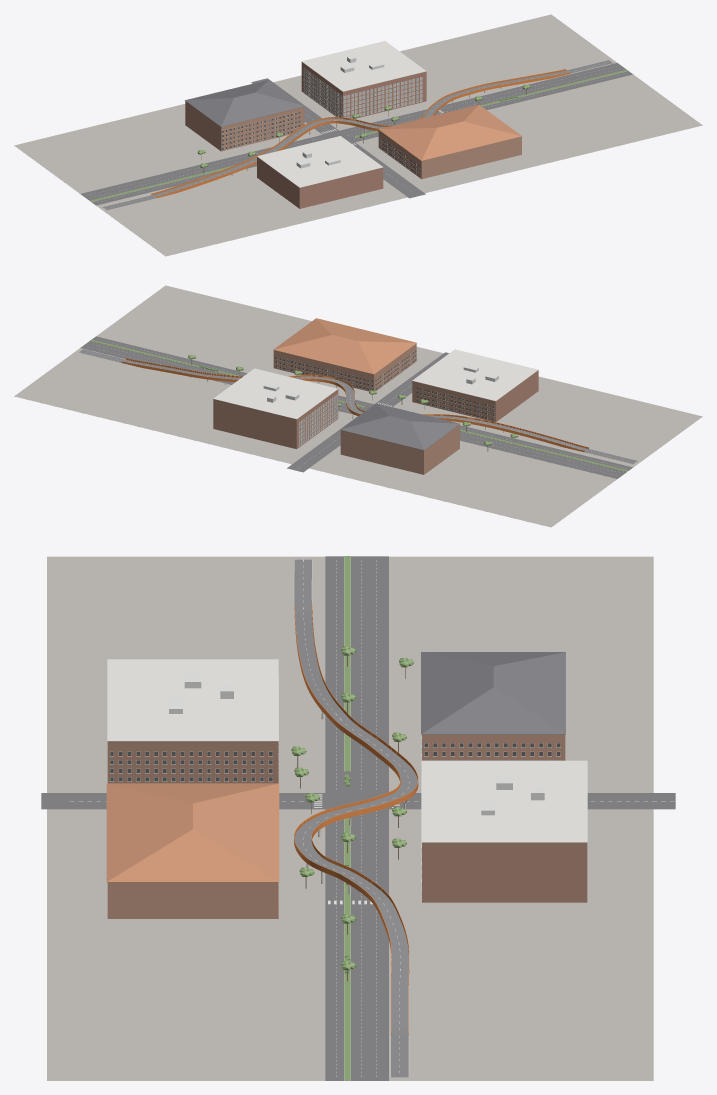
File: clay-swooping-cycle-flyover-clay-v002.glb
3 views of the same model, one above another, from view 1: azimuth 30°, elevation 25°; view 2: azimuth 150°, elevation 25°; view 3: azimuth 270°, elevation 25° (orthographic). The views are drawn at different scales.
Visible parts, largest first — view 1: CLAY_PAVING, CLAY_TRIM, CLAY_ASPHALT, CLAY_BRICK, CLAY_BRICK2, CLAY_TILE, CLAY_ROOF, CLAY_ORANGE, CLAY_DECK, CLAY_GLASS, CLAY_PLANTING, CLAY_DARK (+2 smaller); view 2: CLAY_PAVING, CLAY_TRIM, CLAY_BRICK, CLAY_ASPHALT, CLAY_BRICK2, CLAY_TILE, CLAY_ROOF, CLAY_ORANGE, CLAY_DECK, CLAY_PLANTING, CLAY_DARK, CLAY_PALE (+2 smaller); view 3: CLAY_PAVING, CLAY_ASPHALT, CLAY_TRIM, CLAY_TILE, CLAY_BRICK, CLAY_ROOF, CLAY_BRICK2, CLAY_DECK, CLAY_PLANTING, CLAY_ORANGE, CLAY_DARK, CLAY_PALE (+2 smaller).
Boxes of the visible parts, <box> form: CLAY_PAVING: <box>14,14,702,256</box>; CLAY_TRIM: <box>222,41,426,187</box>; CLAY_ASPHALT: <box>80,63,632,205</box>; CLAY_BRICK: <box>257,62,426,208</box>; CLAY_BRICK2: <box>185,101,521,179</box>; CLAY_TILE: <box>378,105,522,160</box>; CLAY_ROOF: <box>185,80,304,126</box>; CLAY_ORANGE: <box>151,69,570,198</box>; CLAY_DECK: <box>103,60,612,210</box>; CLAY_GLASS: <box>304,68,422,117</box>; CLAY_PLANTING: <box>90,69,627,201</box>; CLAY_DARK: <box>222,112,420,177</box>; CLAY_PAVING: <box>14,285,702,527</box>; CLAY_TRIM: <box>213,349,538,446</box>; CLAY_BRICK: <box>213,370,538,449</box>; CLAY_ASPHALT: <box>80,336,632,478</box>; CLAY_BRICK2: <box>273,344,459,474</box>; CLAY_TILE: <box>273,318,416,374</box>; CLAY_ROOF: <box>340,403,460,450</box>; CLAY_ORANGE: <box>121,358,588,452</box>; CLAY_DECK: <box>79,349,637,463</box>; CLAY_PLANTING: <box>90,339,627,471</box>; CLAY_DARK: <box>275,350,494,420</box>; CLAY_PALE: <box>263,365,498,402</box>; CLAY_PAVING: <box>47,556,653,1080</box>; CLAY_ASPHALT: <box>41,556,675,1080</box>; CLAY_TRIM: <box>107,659,587,914</box>; CLAY_TILE: <box>106,783,279,882</box>; CLAY_BRICK: <box>107,741,587,902</box>; CLAY_ROOF: <box>421,652,565,734</box>; CLAY_BRICK2: <box>107,734,565,918</box>; CLAY_DECK: <box>294,559,417,1077</box>; CLAY_PLANTING: <box>291,556,413,1080</box>; CLAY_ORANGE: <box>294,604,418,1035</box>; CLAY_DARK: <box>110,743,560,781</box>; CLAY_PALE: <box>169,672,544,815</box>.
Bounding box in the file's own units: 450 × 27.16 × 230.
